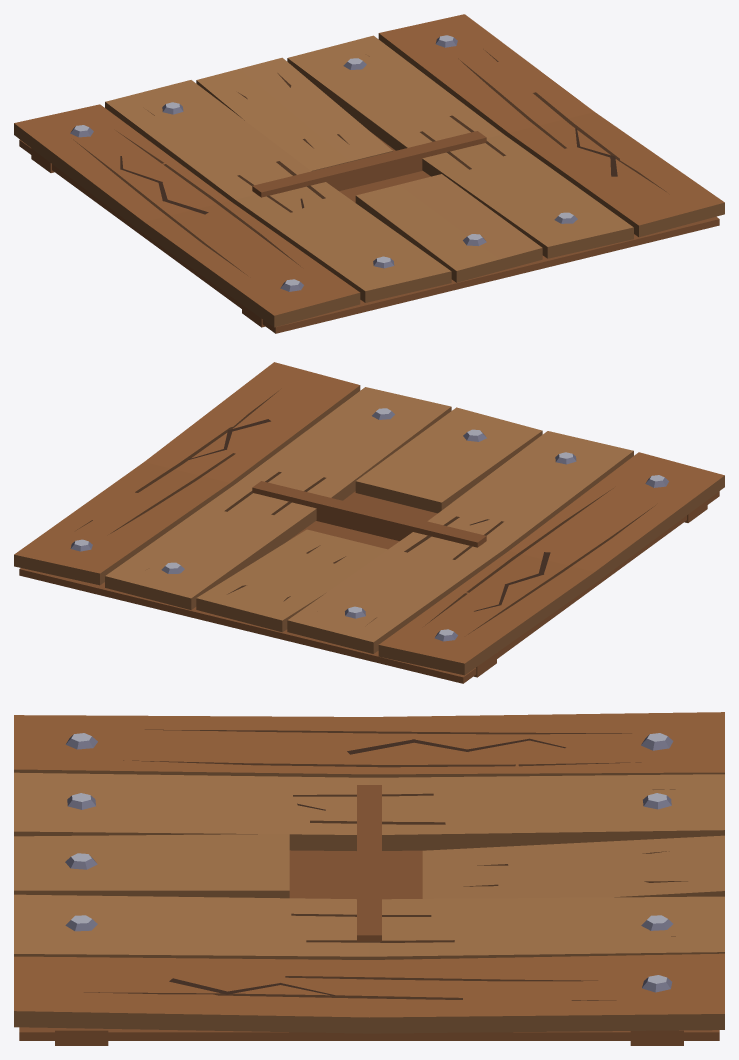
The model's file is floor_plank_tiles_crack2.glb.
3 views of the same model, one above another, from view 1: azimuth 30°, elevation 25°; view 2: azimuth 150°, elevation 25°; view 3: azimuth 270°, elevation 25° (orthographic). The views are drawn at different scales.
Visible parts, largest first — view 1: Q1, Q0, Q3, Q2, Trim; view 2: Q3, Q2, Q1, Q0, Trim; view 3: Q0, Q2, Q3, Q1, Trim.
Boxes of the visible parts, x1,y1,x2,y2 form: Q1: [144, 182, 499, 333]; Q0: [374, 112, 724, 279]; Q3: [14, 69, 349, 239]; Q2: [239, 14, 594, 161]; Trim: [252, 131, 486, 197]; Q3: [239, 532, 594, 683]; Q2: [14, 462, 364, 629]; Q1: [392, 419, 724, 589]; Q0: [144, 362, 498, 512]; Trim: [252, 481, 486, 547]; Q0: [14, 857, 369, 1045]; Q2: [369, 863, 724, 1045]; Q3: [369, 712, 724, 884]; Q1: [14, 715, 369, 884]; Trim: [357, 785, 381, 941].
Bounding box in the file's own units: 4 × 0.276 × 4.
